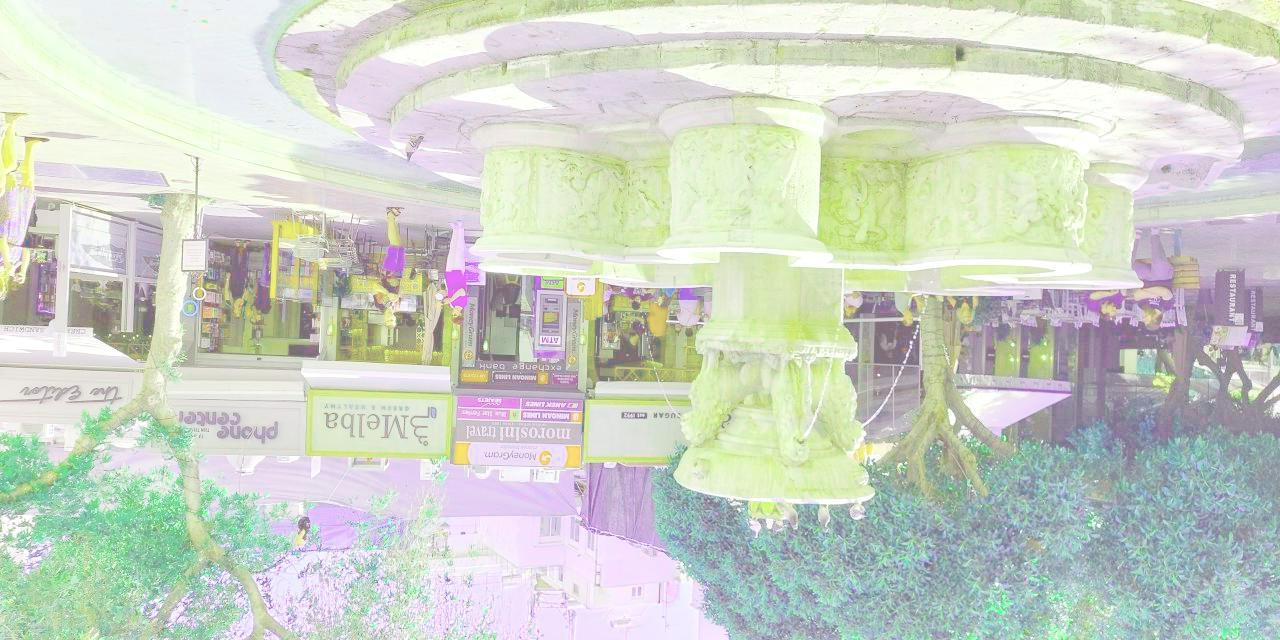Liontaria: (471, 104, 1144, 504)
